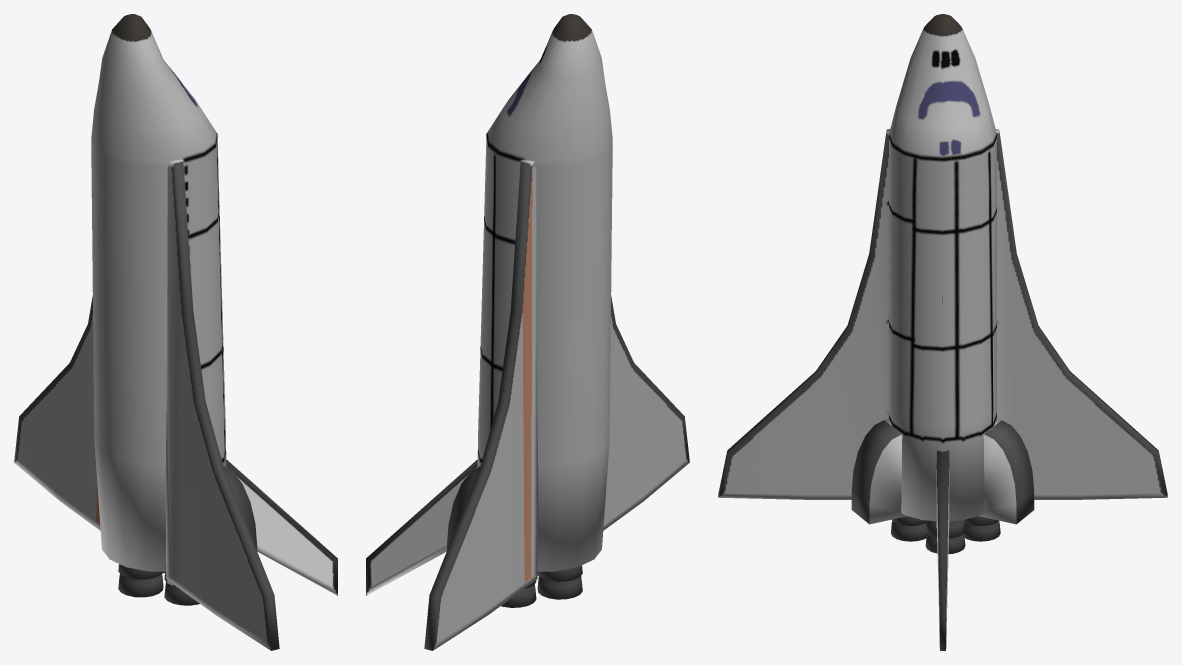
File: 单船体.fbx
The picture shows the model from 3 angles, left to right: view 1: azimuth 30°, elevation 25°; view 2: azimuth 150°, elevation 25°; view 3: azimuth 270°, elevation 25°; orthographic projection. The views are drawn at different scales.
Visible parts, largest first — view 1: feichuan.001; view 2: feichuan.001; view 3: feichuan.001.
Boxes of the visible parts, x1,y1,x2,y2 form: feichuan.001: [14, 14, 337, 650]; feichuan.001: [366, 14, 689, 650]; feichuan.001: [718, 14, 1167, 650].
Size of the model in its own units: 2.87 by 7.24 by 5.38.
Materials: 1 (1 with a texture image).
